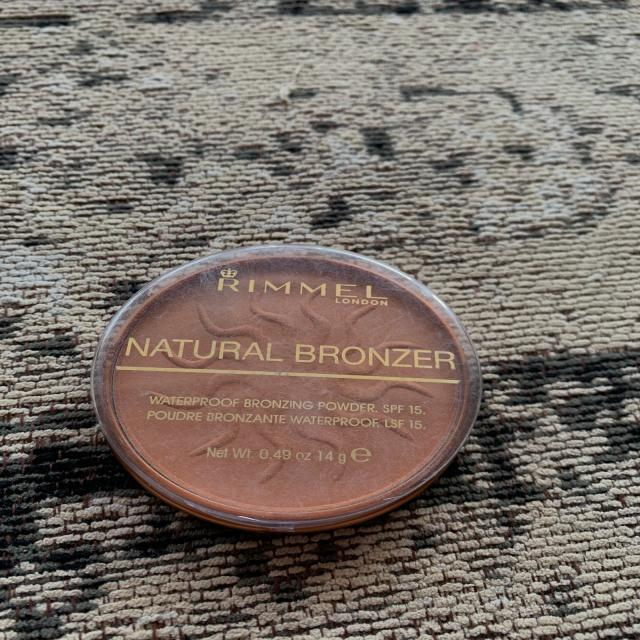bronzer: (68, 216, 498, 536)
